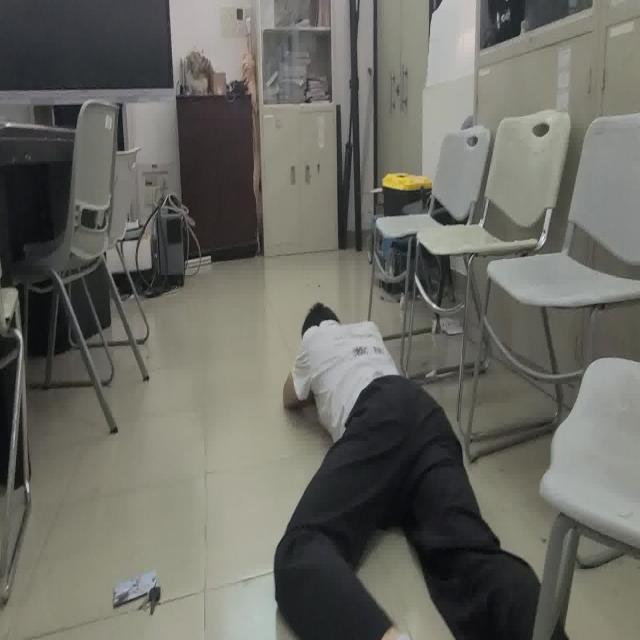Fall-Detected: (279, 296, 567, 640)
